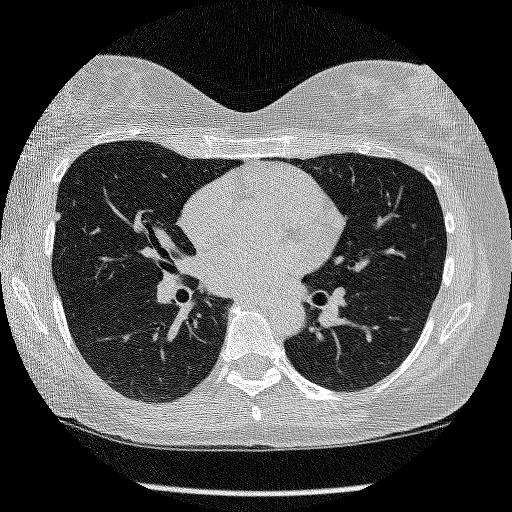nodule: (51, 210, 64, 223)
